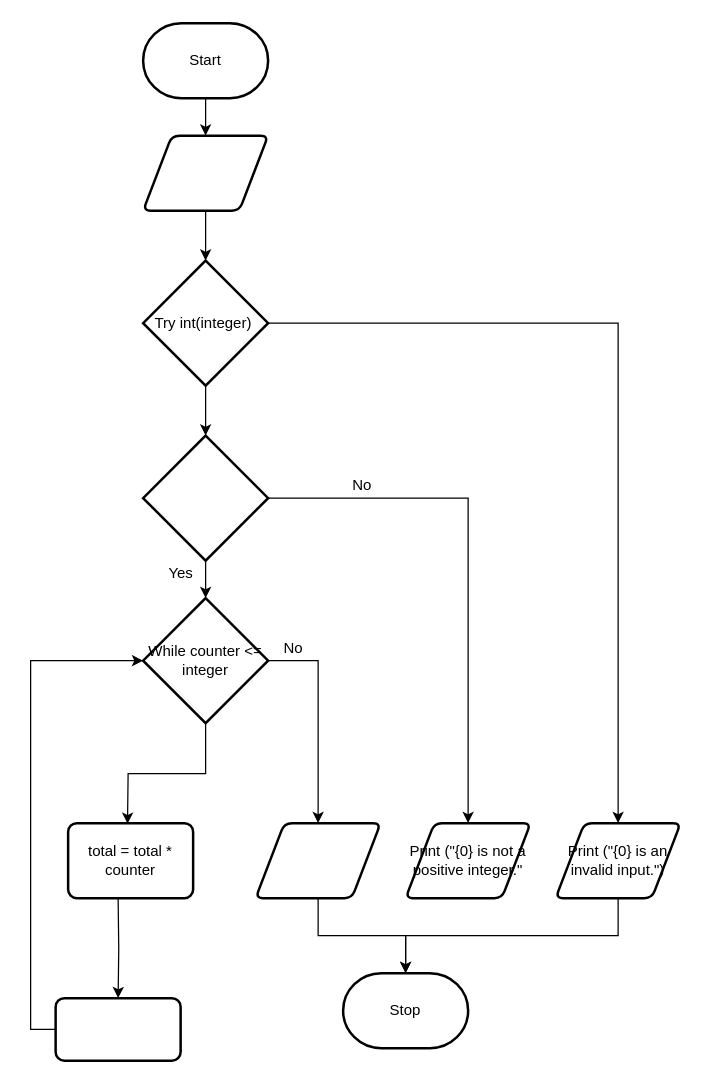
This 704x1083 diagram has some shape labels left out. The box of each missing label's shape, as (x1, y1, x2, y2) in pixels:
counter = counter+1: (54, 996, 181, 1061)
Get integer: (141, 134, 269, 211)
if integer => 0: (141, 434, 269, 561)
Print total: (254, 821, 381, 899)
